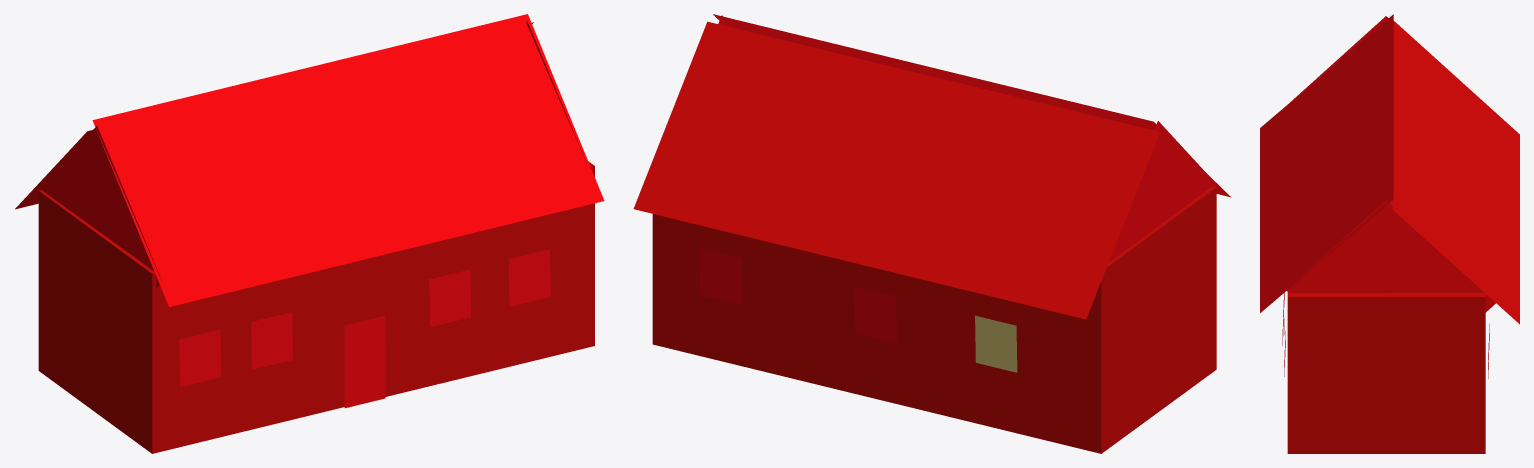
The model's file is POMPEII HOUSE STRUCTURE B12345.fbx.
The picture shows the model from 3 angles, left to right: view 1: azimuth 30°, elevation 25°; view 2: azimuth 150°, elevation 25°; view 3: azimuth 270°, elevation 25°; orthographic projection. The views are drawn at different scales.
Visible parts, largest first — view 1: Plane.010; view 2: Plane.010; view 3: Plane.010.
Boxes of the visible parts, x1,y1,x2,y2 form: Plane.010: (15, 14, 604, 453); Plane.010: (633, 14, 1230, 453); Plane.010: (1260, 14, 1519, 453).
Bounding box in the file's own units: 873 × 539 × 504.
